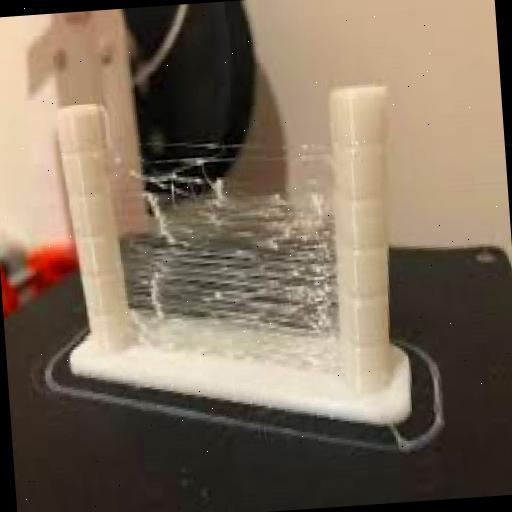stringing: (106, 144, 337, 367)
